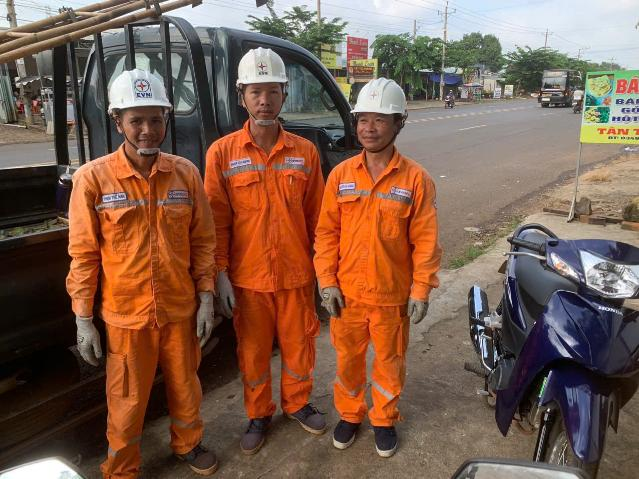gloves: (65, 318, 118, 369), (208, 266, 240, 322), (308, 278, 345, 320), (411, 282, 433, 329), (194, 292, 212, 346)
helmet: (90, 66, 176, 120), (234, 46, 290, 93), (358, 77, 413, 121)
shoes: (228, 399, 273, 455), (165, 436, 216, 476), (327, 396, 361, 448), (371, 417, 408, 458), (285, 405, 329, 433)
